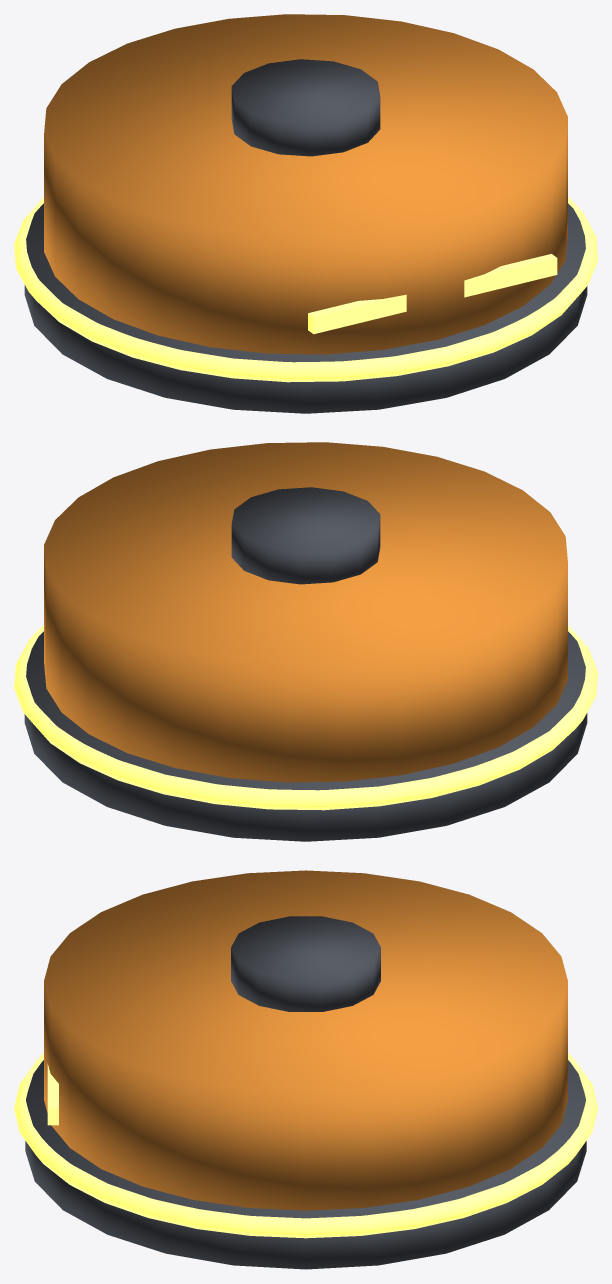
The model's file is drone_dock_cleaner.glb.
The picture shows the model from 3 angles, top to bottom: view 1: azimuth 30°, elevation 25°; view 2: azimuth 150°, elevation 25°; view 3: azimuth 270°, elevation 25°; orthographic projection.
Visible parts, largest first — view 1: GD_drone_dock_cleaner__m2, GD_drone_dock_cleaner__m0, GD_drone_dock_cleaner__m1; view 2: GD_drone_dock_cleaner__m2, GD_drone_dock_cleaner__m0, GD_drone_dock_cleaner__m1; view 3: GD_drone_dock_cleaner__m2, GD_drone_dock_cleaner__m0, GD_drone_dock_cleaner__m1.
Boxes of the visible parts, x1,y1,x2,y2 form: GD_drone_dock_cleaner__m2: [44, 14, 567, 354]; GD_drone_dock_cleaner__m0: [24, 59, 587, 413]; GD_drone_dock_cleaner__m1: [14, 197, 597, 382]; GD_drone_dock_cleaner__m2: [44, 442, 567, 782]; GD_drone_dock_cleaner__m0: [24, 487, 587, 841]; GD_drone_dock_cleaner__m1: [14, 625, 597, 810]; GD_drone_dock_cleaner__m2: [44, 870, 567, 1210]; GD_drone_dock_cleaner__m0: [25, 916, 586, 1269]; GD_drone_dock_cleaner__m1: [14, 1052, 597, 1238].
Size of the model in its own units: 0.624 by 0.24 by 0.624.
